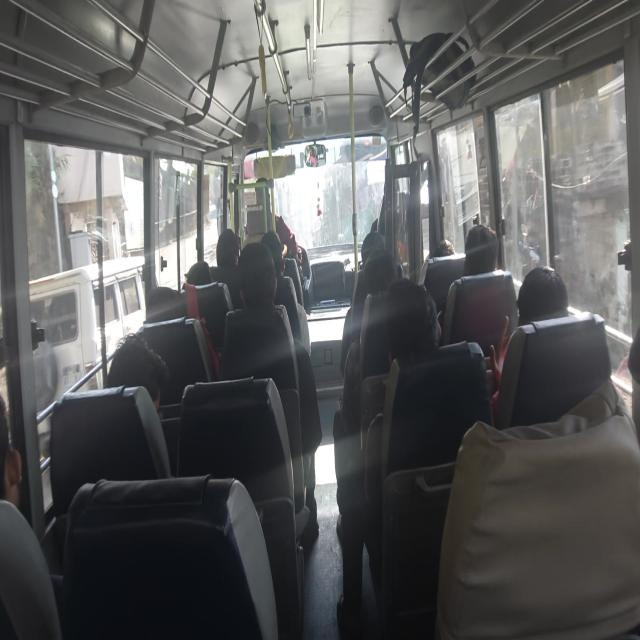person: (389, 271, 449, 376), (111, 328, 170, 406), (516, 265, 573, 339), (1, 395, 27, 526), (462, 214, 508, 279), (239, 243, 275, 323), (146, 284, 203, 330), (365, 254, 405, 304), (358, 218, 398, 258), (209, 216, 240, 266), (376, 172, 413, 212), (245, 162, 279, 205), (260, 221, 288, 273), (185, 256, 214, 301), (432, 230, 461, 261)
